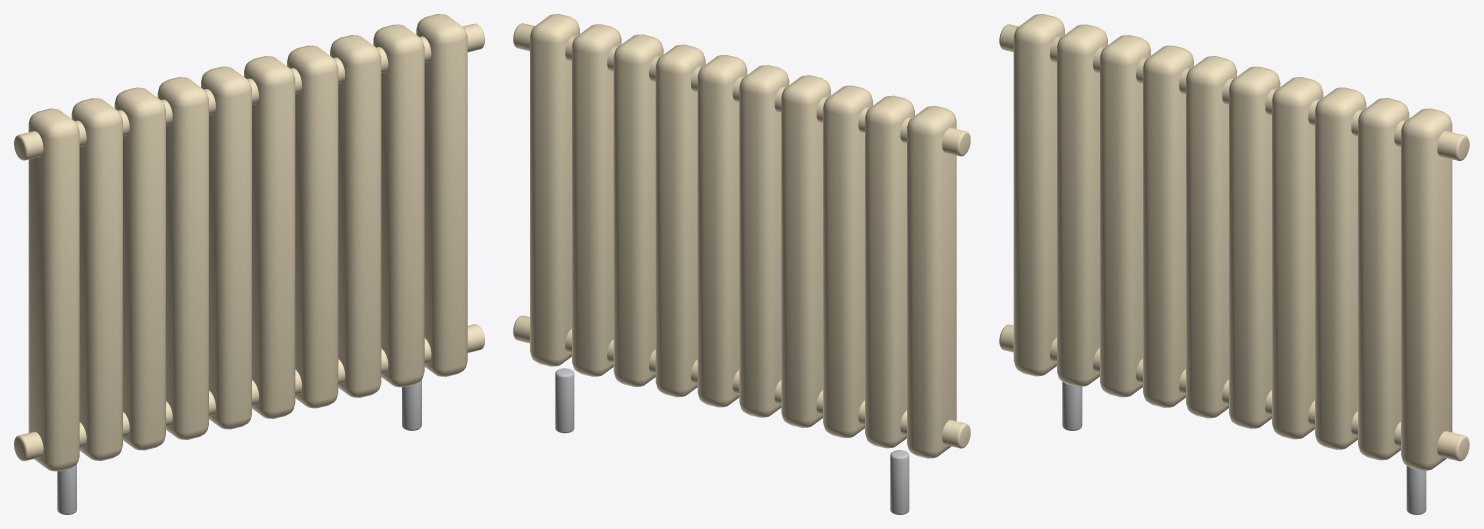
The model's file is radiator.glb.
The picture shows the model from 3 angles, left to right: view 1: azimuth 30°, elevation 25°; view 2: azimuth 150°, elevation 25°; view 3: azimuth 330°, elevation 25°; orthographic projection. The views are drawn at different scales.
Visible parts, largest first — view 1: radiator; view 2: radiator; view 3: radiator.
Boxes of the visible parts, <box> form: radiator: <box>14,14,484,514</box>; radiator: <box>513,14,970,514</box>; radiator: <box>999,14,1469,514</box>.
Bounding box in the file's own units: 0.8 × 0.68 × 0.085.
